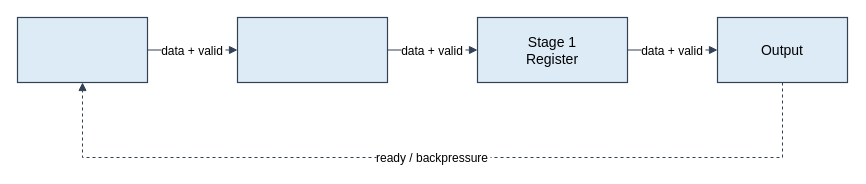
This 866x184 diagram has some shape labels left out. The shapes that lost their labels are listed below. From the top down, each one's centre as x and y in pixels, then its label:
point (82, 49): Input
point (312, 49): Stage 0 Register
